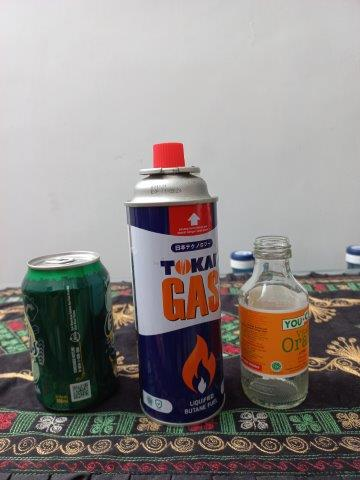botolkaca: (240, 235, 310, 407)
kaleng: (125, 144, 226, 426), (21, 252, 113, 413)
